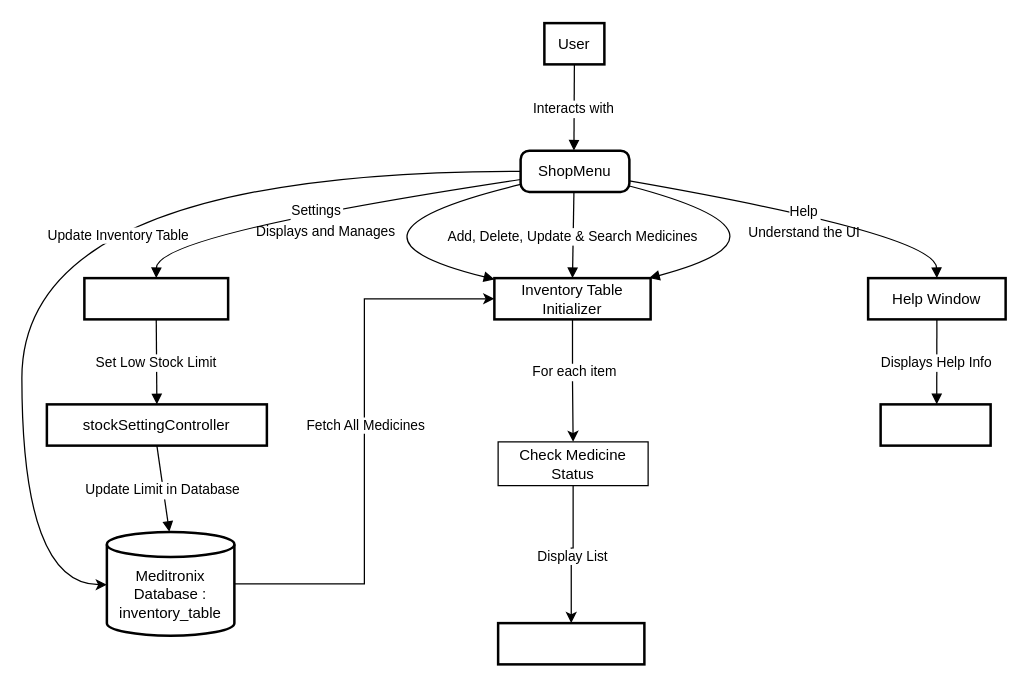
The diagram is 1029 pixels wide and 686 high, and some of its shapes have lost their labels. Each missing label, with the box of its shape:
Info Panes: (879, 402, 991, 446)
Medicine Data: (496, 621, 645, 665)
Stock Settings: (82, 276, 229, 320)
